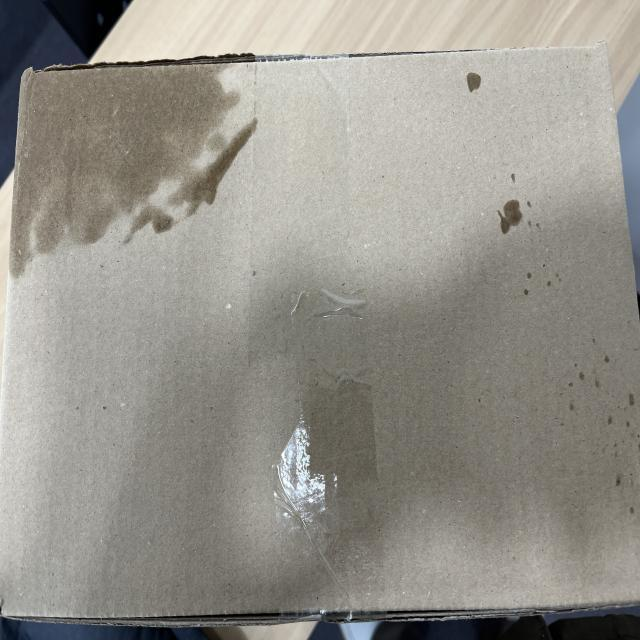hole: (185, 580, 637, 636)
wet: (10, 75, 247, 229)
